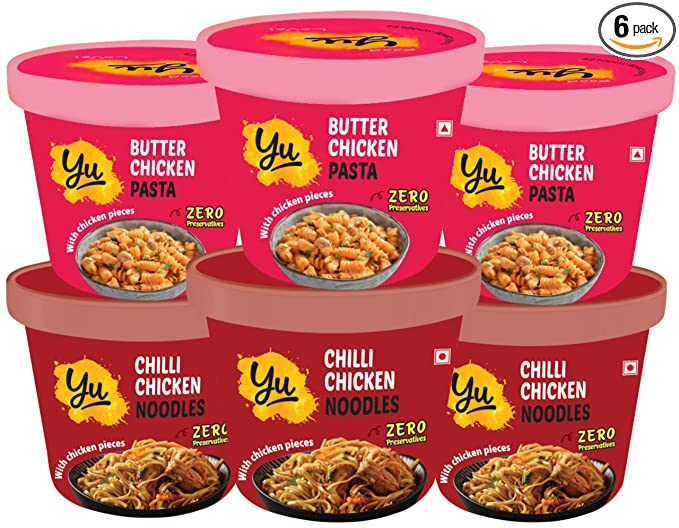non_veg: (625, 144, 650, 172), (432, 120, 455, 143), (431, 347, 452, 372), (621, 358, 639, 382)
